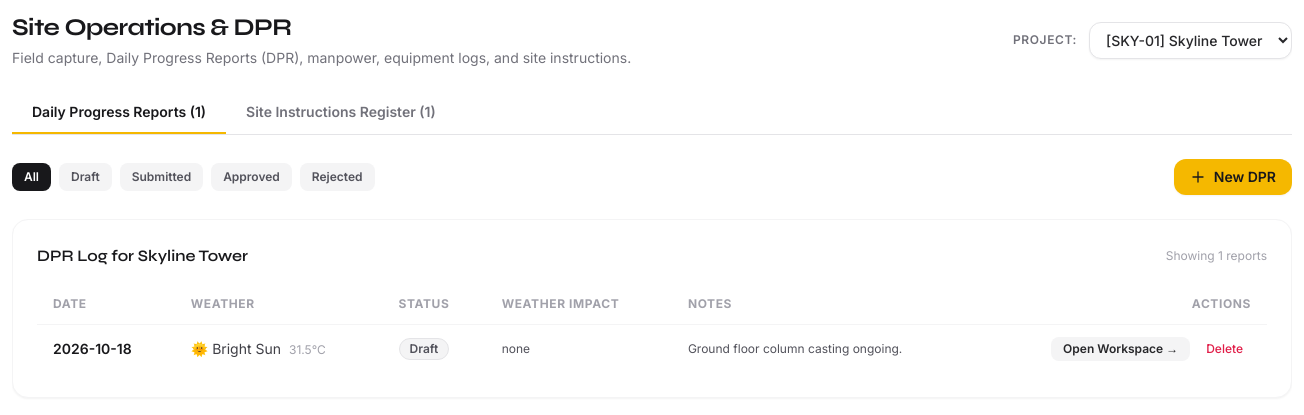
SiteOperationsPage › switches to Site Instructions tab and lists instructions
What coordinates should you click on to do the following:
click the button "Site Instructions Register (1)"
I would click on:
 (341, 113)
Its box is [226,92,456,134].
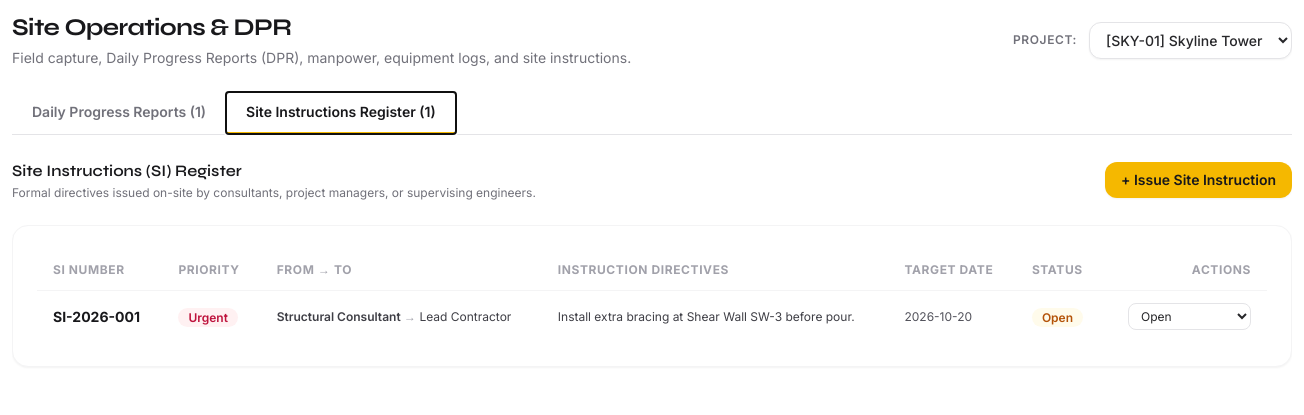
Expected: the text "SI-2026-001" is shown, [37,290,162,342]
Expected: the text "Install extra bracing at Shear Wall SW-3 before pour." is shown, [542,290,888,342]
Expected: the text "Structural Consultant" is shown, [277,308,401,324]
